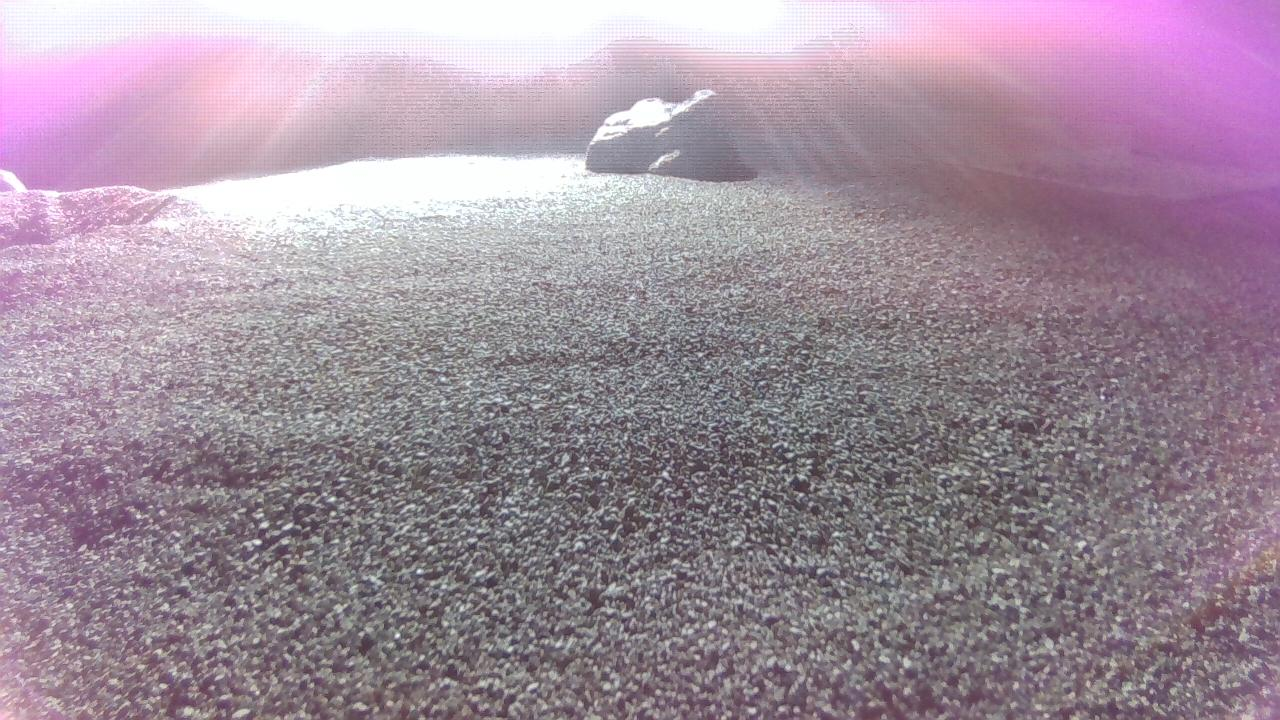rock: (586, 88, 748, 180)
